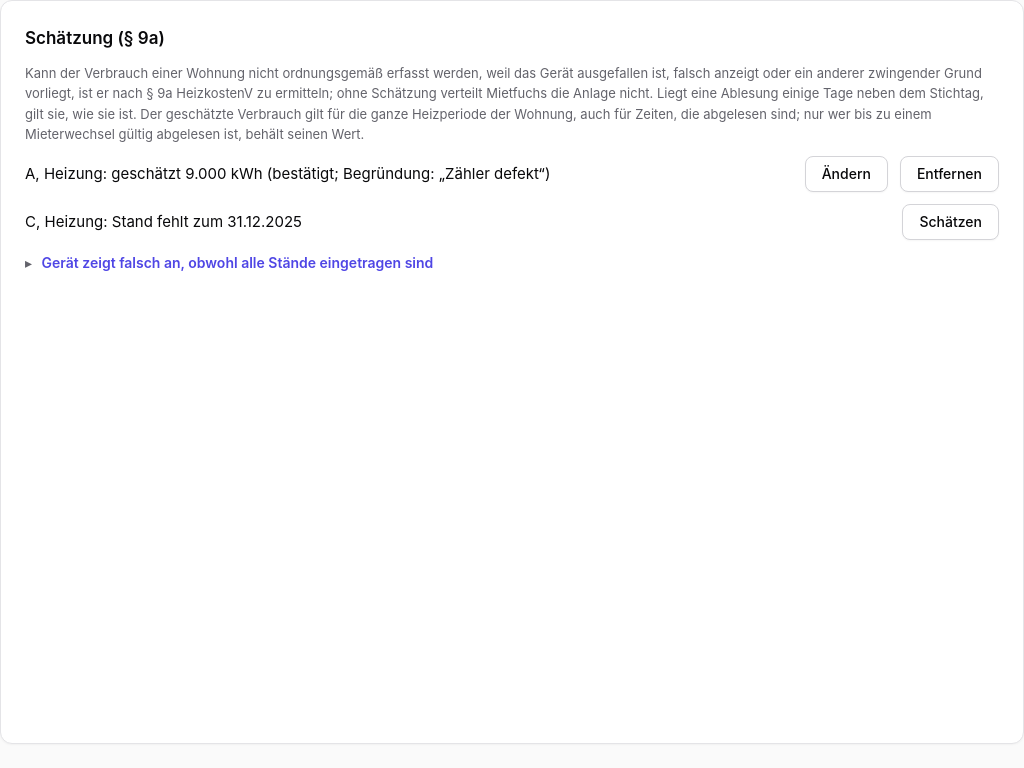
it: R-I1/R-I3/R-M3: Wortlaut des § 9a, Grund als Auswahl, Hinweis zur Begründung, Feld für die ganze Heizperiode
This screenshot has width=1024, height=768.
Click the button with aria-label "C schätzen".
click(951, 222)  # box x1=902 y1=204 x2=999 y2=240
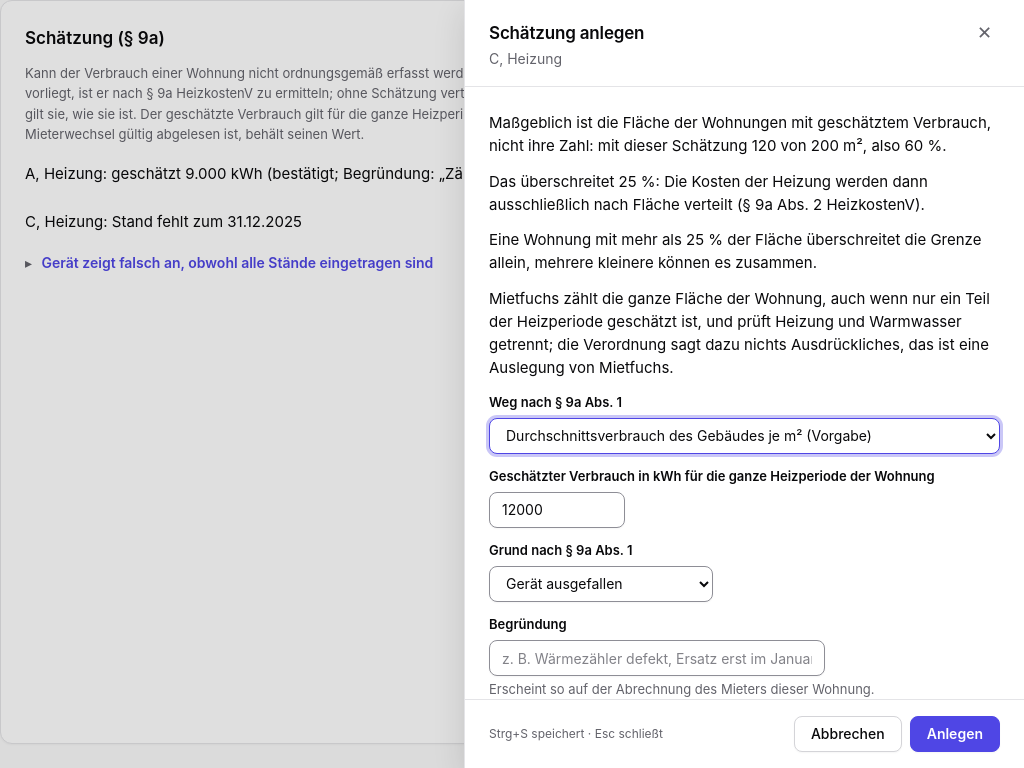
Check: the dropdown labelled "Grund nach § 9a Abs. 1" shows "Gerät ausgefallen", box x1=489 y1=566 x2=713 y2=602
Check: the text "Erscheint so auf der Abrechnung des Mieters dieser Wohnung." is shown, box x1=489 y1=681 x2=875 y2=697
Check: the field labelled "Geschätzter Verbrauch in kWh für die ganze Heizperiode der Wohnung" is shown, box x1=489 y1=492 x2=625 y2=528
